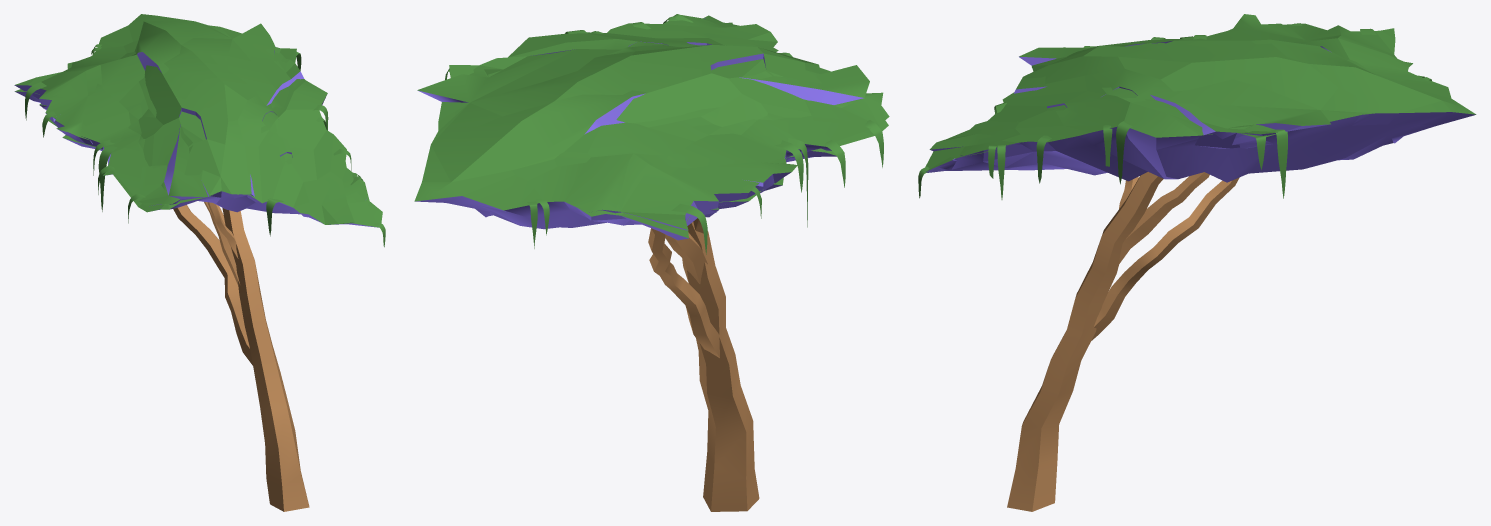
Rendered from tree_A_canopy_A_A_solo.fbx.
The picture shows the model from 3 angles, left to right: view 1: azimuth 30°, elevation 25°; view 2: azimuth 150°, elevation 25°; view 3: azimuth 270°, elevation 25°; orthographic projection. The views are drawn at different scales.
Parts seen in each view (by area): view 1: tree_A_canopy_A_holed, tree_A_canopy_A_leveled, tree_A_canopy_A_trunk_A, tree_A_canopy_A_A, tree_A_canopy_A_trunk_B, tree_A_canopy_A_trunk_C, tree_A_canopy_A_trunk_D; view 2: tree_A_canopy_A_leveled, tree_A_canopy_A_holed, tree_A_canopy_A_A, tree_A_canopy_A_trunk_A, tree_A_canopy_A_trunk_B, tree_A_canopy_A_trunk_C; view 3: tree_A_canopy_A_leveled, tree_A_canopy_A_holed, tree_A_canopy_A_trunk_A, tree_A_canopy_A_A, tree_A_canopy_A_trunk_B, tree_A_canopy_A_trunk_C.
Part boxes in pixels (x1,y1,x2,y2): tree_A_canopy_A_holed: [14, 14, 376, 227]; tree_A_canopy_A_leveled: [15, 21, 382, 227]; tree_A_canopy_A_trunk_A: [222, 208, 309, 511]; tree_A_canopy_A_A: [14, 21, 379, 227]; tree_A_canopy_A_trunk_B: [173, 205, 252, 365]; tree_A_canopy_A_trunk_C: [204, 202, 239, 285]; tree_A_canopy_A_trunk_D: [207, 202, 238, 258]; tree_A_canopy_A_leveled: [415, 15, 883, 230]; tree_A_canopy_A_holed: [414, 18, 888, 240]; tree_A_canopy_A_A: [429, 17, 889, 230]; tree_A_canopy_A_trunk_A: [682, 222, 759, 511]; tree_A_canopy_A_trunk_B: [648, 228, 719, 357]; tree_A_canopy_A_trunk_C: [665, 232, 707, 283]; tree_A_canopy_A_leveled: [926, 14, 1450, 182]; tree_A_canopy_A_holed: [925, 40, 1475, 170]; tree_A_canopy_A_trunk_A: [1007, 172, 1163, 511]; tree_A_canopy_A_A: [926, 24, 1475, 172]; tree_A_canopy_A_trunk_B: [1091, 177, 1239, 340]; tree_A_canopy_A_trunk_C: [1119, 172, 1209, 263].
Size of the model in its own units: 410 by 597 by 675.
